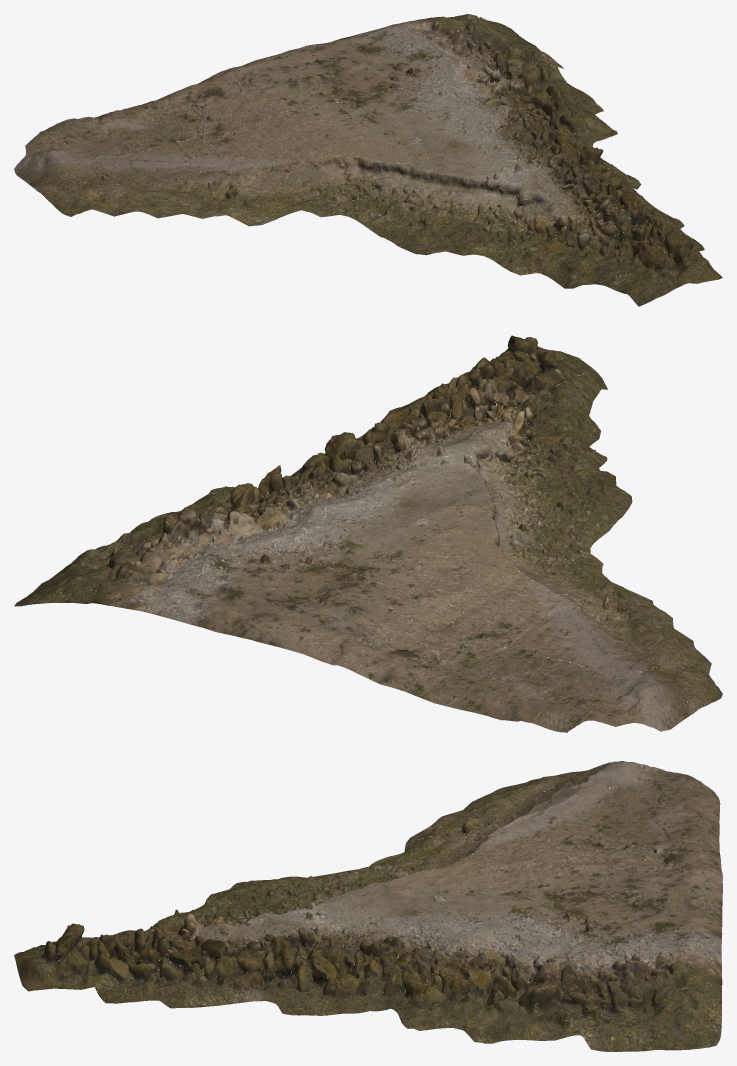
3 renders of one model, top to bottom at view 1: azimuth 30°, elevation 25°; view 2: azimuth 150°, elevation 25°; view 3: azimuth 270°, elevation 25°, orthographic. The views are drawn at different scales.
Parts seen in each view (by area): view 1: ScanTerrain; view 2: ScanTerrain; view 3: ScanTerrain.
Part boxes in pixels (box(x1,y1,x2,y2)): ScanTerrain: box(14, 14, 722, 306); ScanTerrain: box(14, 335, 722, 732); ScanTerrain: box(14, 761, 722, 1051).
Size of what is drawn, in the model's own units: 45.96 by 4.44 by 49.47.
1 material, 1 textured.
